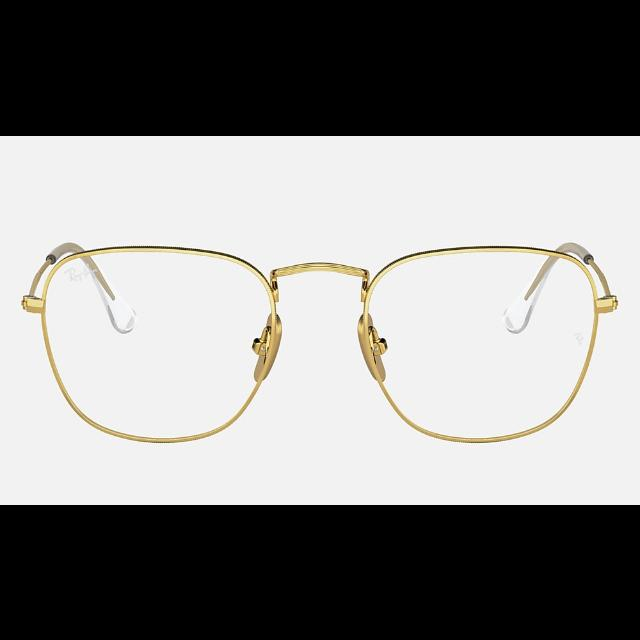glasses: (21, 242, 615, 444)
